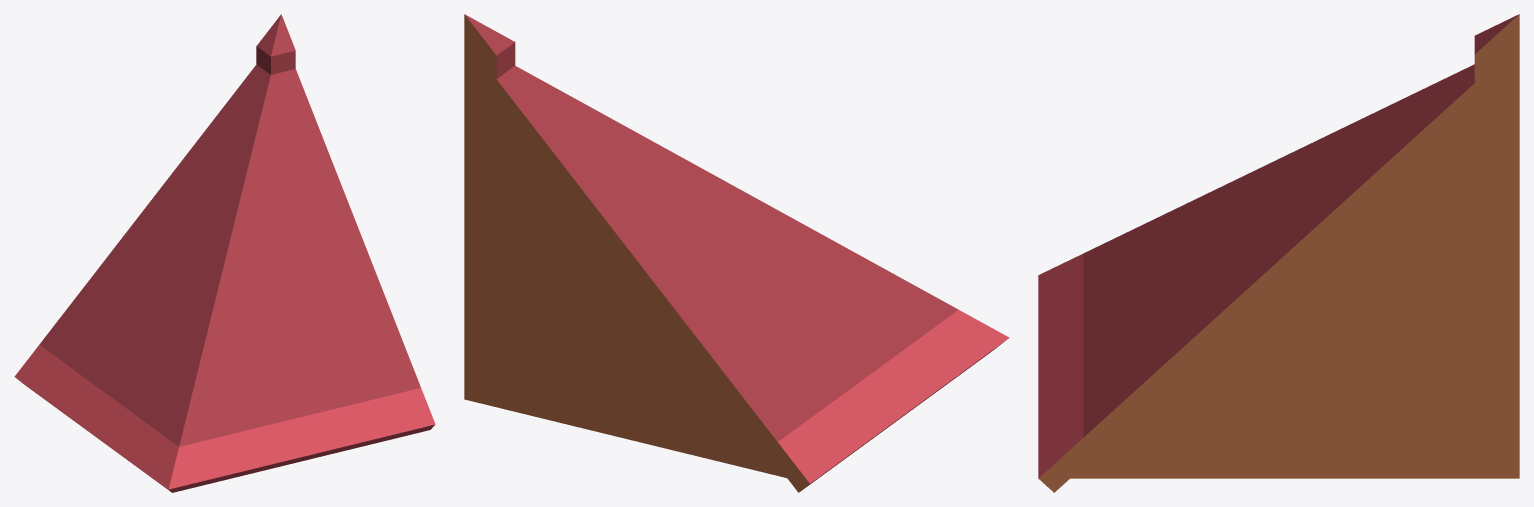
Rendered from roofHighCorner.obj.
The picture shows the model from 3 angles, left to right: view 1: azimuth 30°, elevation 25°; view 2: azimuth 150°, elevation 25°; view 3: azimuth 270°, elevation 25°; orthographic projection. The views are drawn at different scales.
Visible parts, largest first — view 1: roofHighCorner; view 2: roofHighCorner; view 3: roofHighCorner.
Boxes of the visible parts, x1=… form: roofHighCorner: x1=14, y1=14, x2=435, y2=492; roofHighCorner: x1=464, y1=14, x2=1009, y2=492; roofHighCorner: x1=1038, y1=14, x2=1519, y2=492.
Size of the model in its own units: 1.07 by 1.18 by 1.07.
